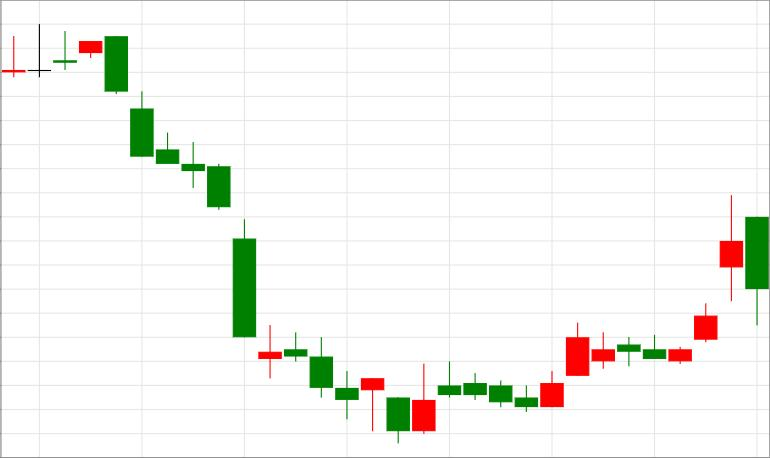bearish_engulfing_fall: (2, 24, 128, 94)
inverse_hammer_rise: (104, 36, 436, 444)
